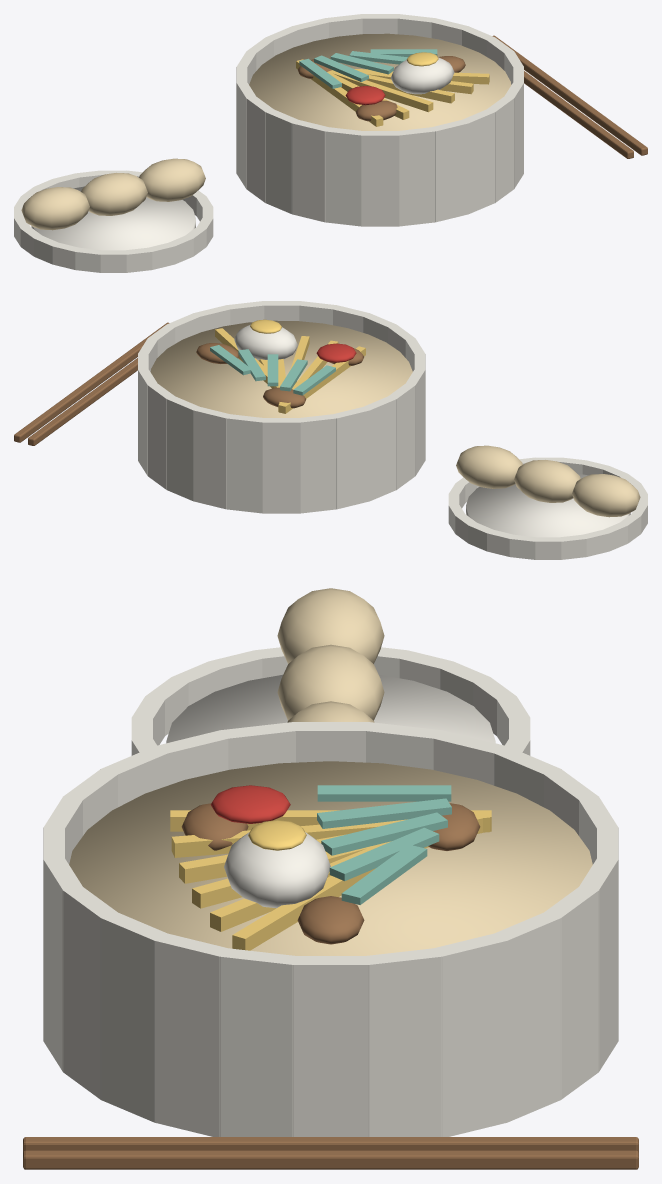
File: Milmyeon_blockout.glb
3 views of the same model, one above another, from view 1: azimuth 30°, elevation 25°; view 2: azimuth 150°, elevation 25°; view 3: azimuth 270°, elevation 25° (orthographic). The views are drawn at different scales.
Visible parts, largest first — view 1: FOOD01_Milmyeon_Broth_L0, FOOD01_Milmyeon_DumplingPlateBase_L0, FOOD01_Milmyeon_BowlRim16_L0, FOOD01_Milmyeon_BowlRim15_L0, FOOD01_Milmyeon_BowlRim17_L0, FOOD01_Milmyeon_BowlRim14_L0, FOOD01_Milmyeon_BowlRim18_L0, FOOD01_Milmyeon_BowlRim19_L0, FOOD01_Milmyeon_BowlRim13_L0, FOOD01_Milmyeon_GiantDumpling0_L0, FOOD01_Milmyeon_GiantDumpling2_L0, FOOD01_Milmyeon_GiantDumpling1_L0 (+37 smaller); view 2: FOOD01_Milmyeon_Broth_L0, FOOD01_Milmyeon_DumplingPlateBase_L0, FOOD01_Milmyeon_BowlRim8_L0, FOOD01_Milmyeon_BowlRim9_L0, FOOD01_Milmyeon_BowlRim7_L0, FOOD01_Milmyeon_BowlRim10_L0, FOOD01_Milmyeon_BowlRim6_L0, FOOD01_Milmyeon_BowlRim5_L0, FOOD01_Milmyeon_BowlRim11_L0, FOOD01_Milmyeon_GiantDumpling0_L0, FOOD01_Milmyeon_GiantDumpling2_L0, FOOD01_Milmyeon_GiantDumpling1_L0 (+37 smaller); view 3: FOOD01_Milmyeon_Broth_L0, FOOD01_Milmyeon_BowlRim1_L0, FOOD01_Milmyeon_BowlRim23_L0, FOOD01_Milmyeon_BowlRim0_L0, FOOD01_Milmyeon_BowlRim22_L0, FOOD01_Milmyeon_BowlRim2_L0, FOOD01_Milmyeon_Chopstick1_L0, FOOD01_Milmyeon_BowlRim3_L0, FOOD01_Milmyeon_BowlRim21_L0, FOOD01_Milmyeon_DumplingPlateBase_L0, FOOD01_Milmyeon_Chopstick0_L0, FOOD01_Milmyeon_BowlRim20_L0 (+42 smaller).
Part boxes in pixels (left/top/right/bottom): FOOD01_Milmyeon_Broth_L0: left=249, top=33, right=511, bottom=130; FOOD01_Milmyeon_DumplingPlateBase_L0: left=31, top=186, right=195, bottom=250; FOOD01_Milmyeon_BowlRim16_L0: left=361, top=131, right=399, bottom=226; FOOD01_Milmyeon_BowlRim15_L0: left=324, top=127, right=363, bottom=226; FOOD01_Milmyeon_BowlRim17_L0: left=396, top=127, right=435, bottom=226; FOOD01_Milmyeon_BowlRim14_L0: left=291, top=119, right=329, bottom=222; FOOD01_Milmyeon_BowlRim18_L0: left=431, top=119, right=468, bottom=222; FOOD01_Milmyeon_BowlRim19_L0: left=461, top=109, right=495, bottom=213; FOOD01_Milmyeon_BowlRim13_L0: left=265, top=109, right=298, bottom=213; FOOD01_Milmyeon_GiantDumpling0_L0: left=21, top=187, right=89, bottom=230; FOOD01_Milmyeon_GiantDumpling2_L0: left=139, top=158, right=205, bottom=201; FOOD01_Milmyeon_GiantDumpling1_L0: left=81, top=173, right=147, bottom=215; FOOD01_Milmyeon_Broth_L0: left=150, top=320, right=412, bottom=417; FOOD01_Milmyeon_DumplingPlateBase_L0: left=466, top=473, right=630, bottom=537; FOOD01_Milmyeon_BowlRim8_L0: left=262, top=418, right=300, bottom=513; FOOD01_Milmyeon_BowlRim9_L0: left=300, top=414, right=337, bottom=513; FOOD01_Milmyeon_BowlRim7_L0: left=226, top=414, right=265, bottom=513; FOOD01_Milmyeon_BowlRim10_L0: left=332, top=406, right=370, bottom=509; FOOD01_Milmyeon_BowlRim6_L0: left=193, top=407, right=231, bottom=509; FOOD01_Milmyeon_BowlRim5_L0: left=166, top=396, right=200, bottom=500; FOOD01_Milmyeon_BowlRim11_L0: left=363, top=396, right=396, bottom=500; FOOD01_Milmyeon_GiantDumpling0_L0: left=572, top=474, right=640, bottom=517; FOOD01_Milmyeon_GiantDumpling2_L0: left=456, top=445, right=522, bottom=488; FOOD01_Milmyeon_GiantDumpling1_L0: left=514, top=460, right=580, bottom=502; FOOD01_Milmyeon_Broth_L0: left=69, top=761, right=592, bottom=955; FOOD01_Milmyeon_BowlRim1_L0: left=363, top=948, right=442, bottom=1136; FOOD01_Milmyeon_BowlRim23_L0: left=219, top=948, right=298, bottom=1136; FOOD01_Milmyeon_BowlRim0_L0: left=292, top=956, right=369, bottom=1136; FOOD01_Milmyeon_BowlRim22_L0: left=154, top=933, right=230, bottom=1136; FOOD01_Milmyeon_BowlRim2_L0: left=436, top=932, right=507, bottom=1136; FOOD01_Milmyeon_Chopstick1_L0: left=23, top=1150, right=638, bottom=1169; FOOD01_Milmyeon_BowlRim3_L0: left=492, top=911, right=561, bottom=1122; FOOD01_Milmyeon_BowlRim21_L0: left=100, top=912, right=169, bottom=1122; FOOD01_Milmyeon_DumplingPlateBase_L0: left=166, top=674, right=495, bottom=743; FOOD01_Milmyeon_Chopstick0_L0: left=23, top=1137, right=638, bottom=1152; FOOD01_Milmyeon_BowlRim20_L0: left=62, top=886, right=119, bottom=1099.
Bounding box in the file's own units: 0.4725 × 0.0925 × 0.23.
